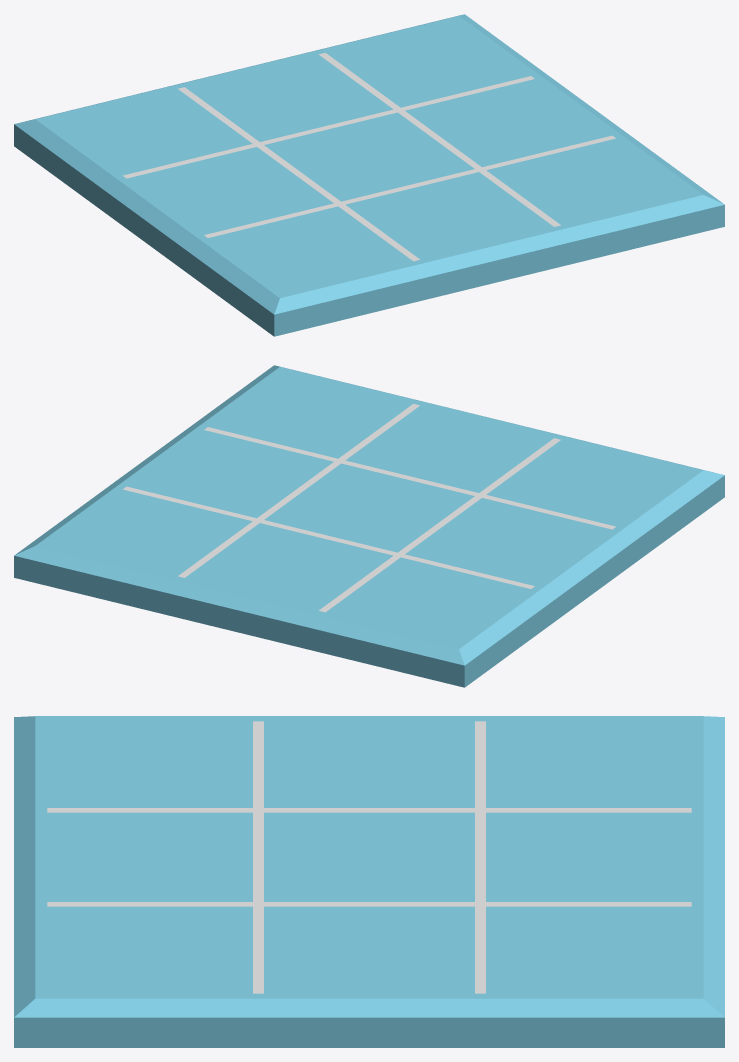
The model's file is board.fbx.
The picture shows the model from 3 angles, top to bottom: view 1: azimuth 30°, elevation 25°; view 2: azimuth 150°, elevation 25°; view 3: azimuth 270°, elevation 25°; orthographic projection. The views are drawn at different scales.
Parts seen in each view (by area): view 1: Cube; view 2: Cube; view 3: Cube.
Part boxes in pixels (box(x1,y1,x2,y2)): Cube: box(14, 14, 724, 336); Cube: box(14, 365, 724, 687); Cube: box(14, 716, 724, 1047).
Size of the model in its own units: 640 by 40 by 640.
